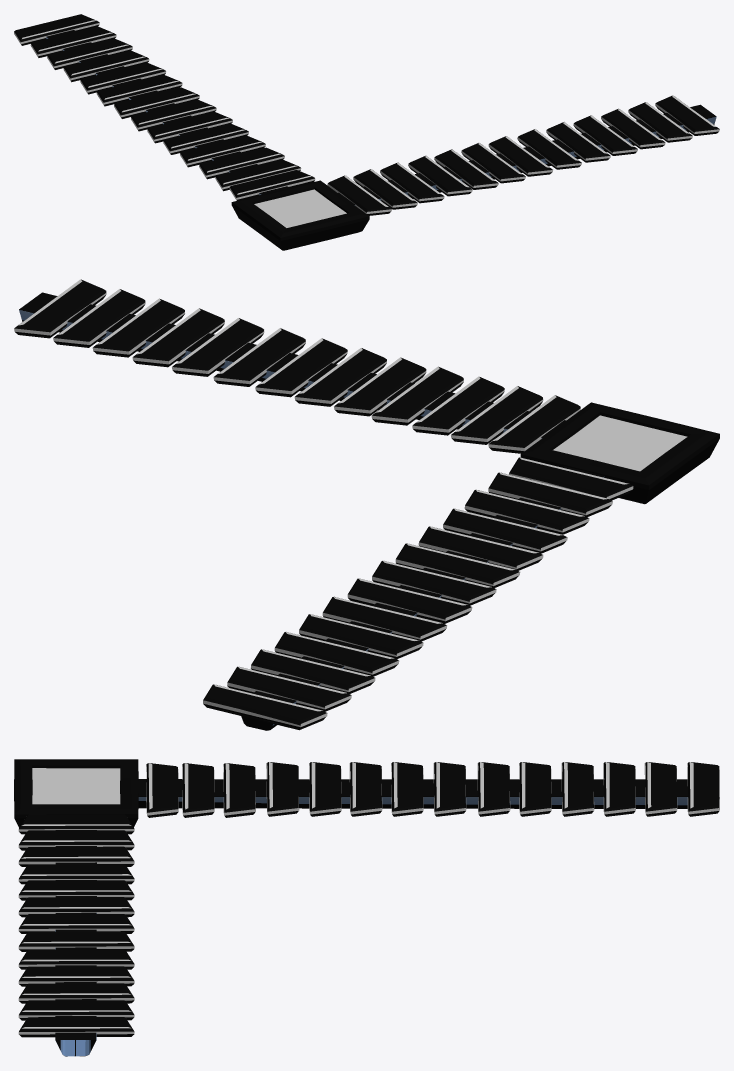
File: Rooms_Paradise_SciFi_Stairs_32_Art.fbx
The picture shows the model from 3 angles, top to bottom: view 1: azimuth 30°, elevation 25°; view 2: azimuth 150°, elevation 25°; view 3: azimuth 270°, elevation 25°; orthographic projection. The views are drawn at different scales.
Parts seen in each view (by area): view 1: Rooms_Paradise_SciFi_Stairs_32_Art; view 2: Rooms_Paradise_SciFi_Stairs_32_Art; view 3: Rooms_Paradise_SciFi_Stairs_32_Art.
Part boxes in pixels (left/top/right/bottom): Rooms_Paradise_SciFi_Stairs_32_Art: left=14, top=14, right=719, bottom=250; Rooms_Paradise_SciFi_Stairs_32_Art: left=14, top=279, right=719, bottom=730; Rooms_Paradise_SciFi_Stairs_32_Art: left=14, top=759, right=719, bottom=1056.
Bounding box in the file's own units: 1335 × 54.64 × 1424.
